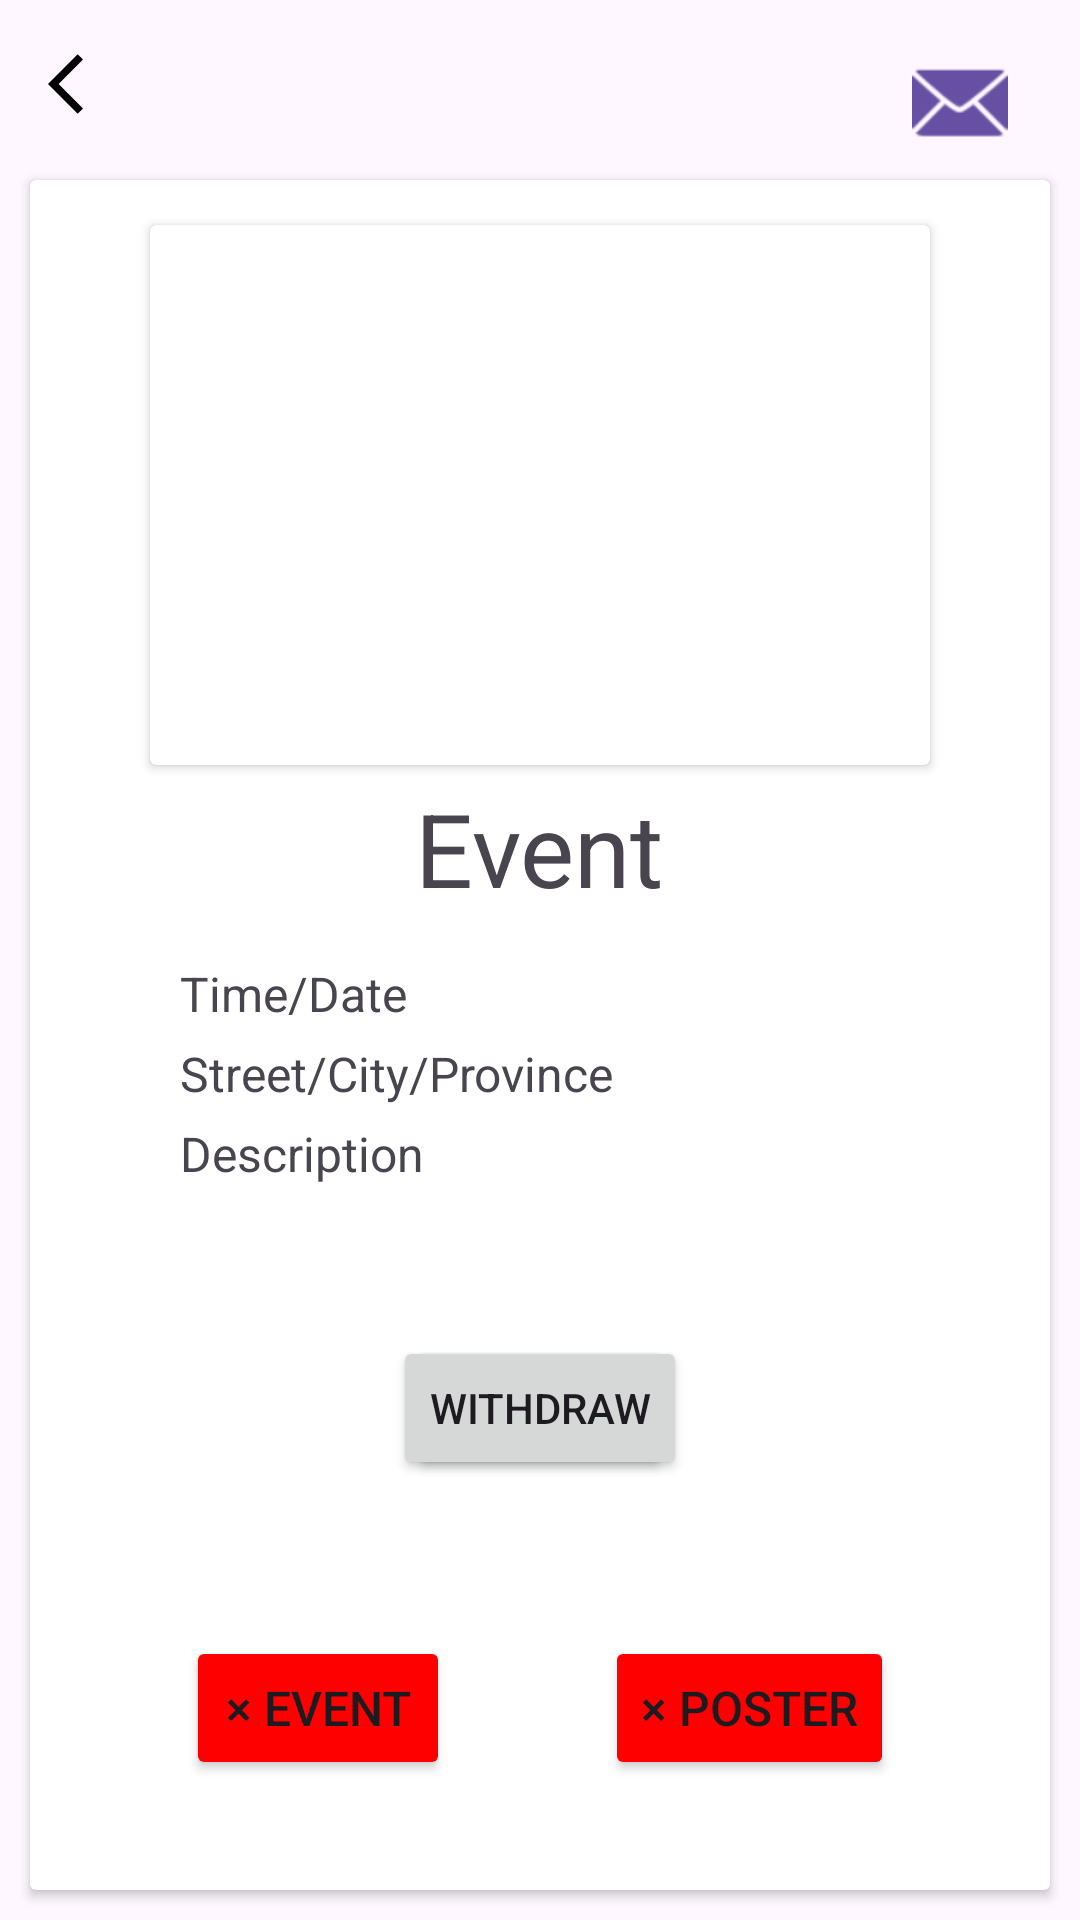

Point at icon controls on the screen. Image size 1080px×1920px, points as point (x, y).
back arrow: point (65, 84)
email: point (960, 103)
